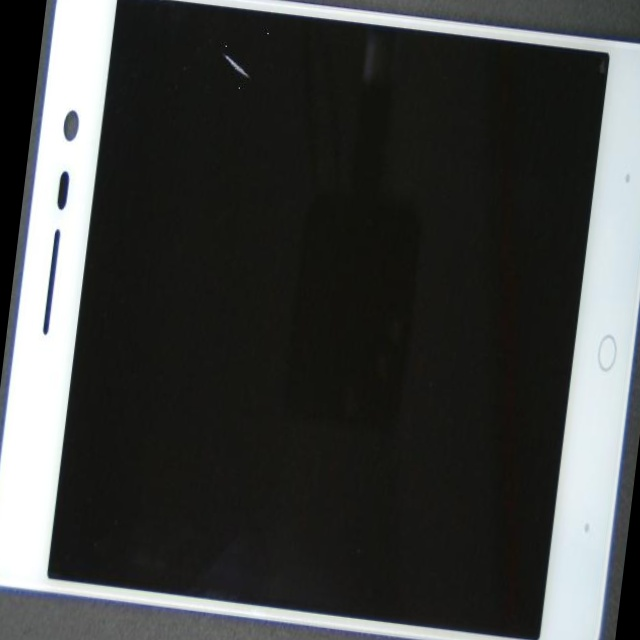scratch: (100, 0, 316, 162)
